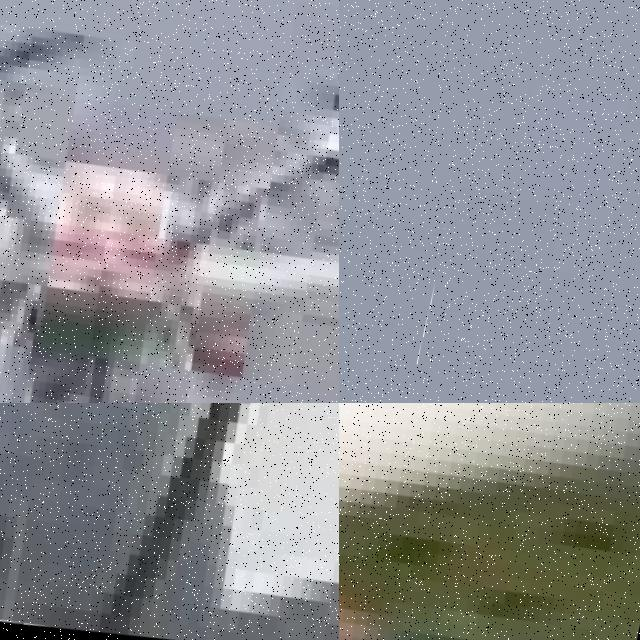drone: (0, 0, 339, 403), (0, 403, 339, 640), (339, 403, 640, 640), (339, 169, 444, 403)
